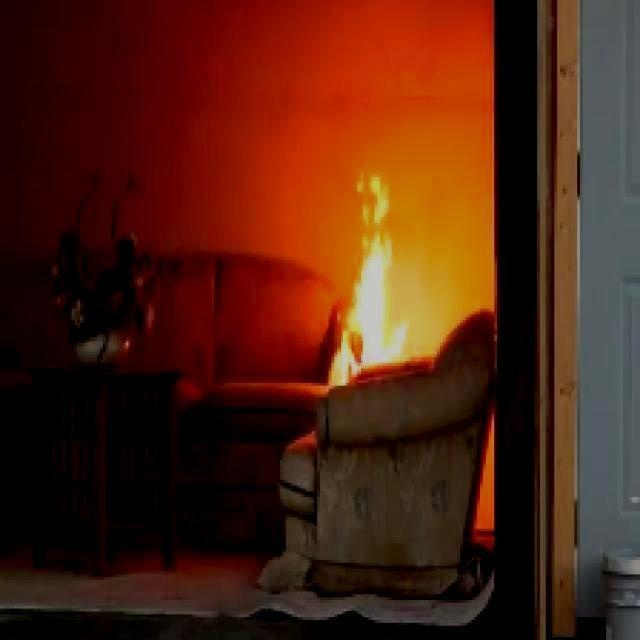fire: (323, 157, 411, 376)
